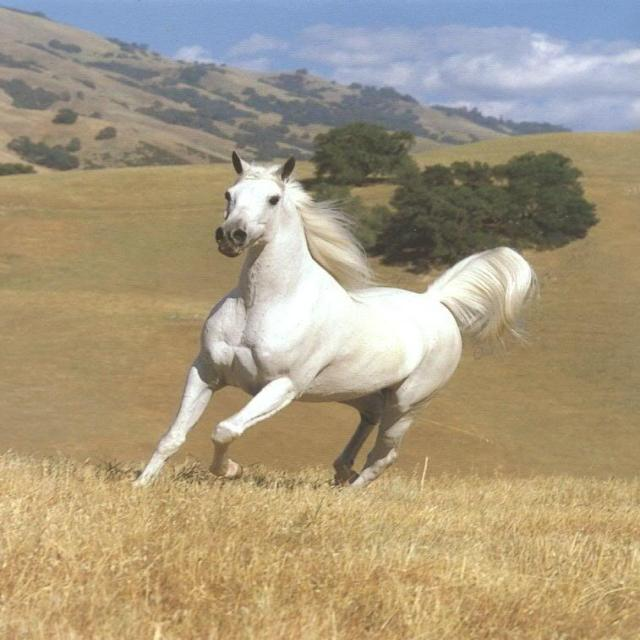horse: (130, 150, 540, 492)
